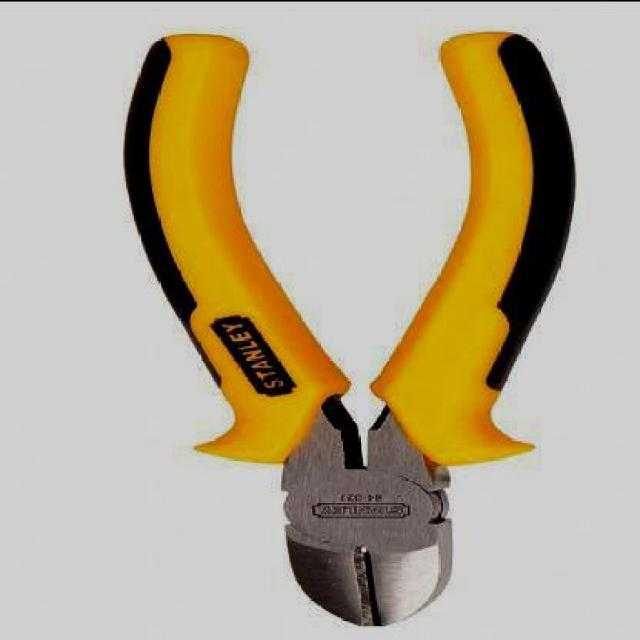pliers: (110, 25, 586, 622)
